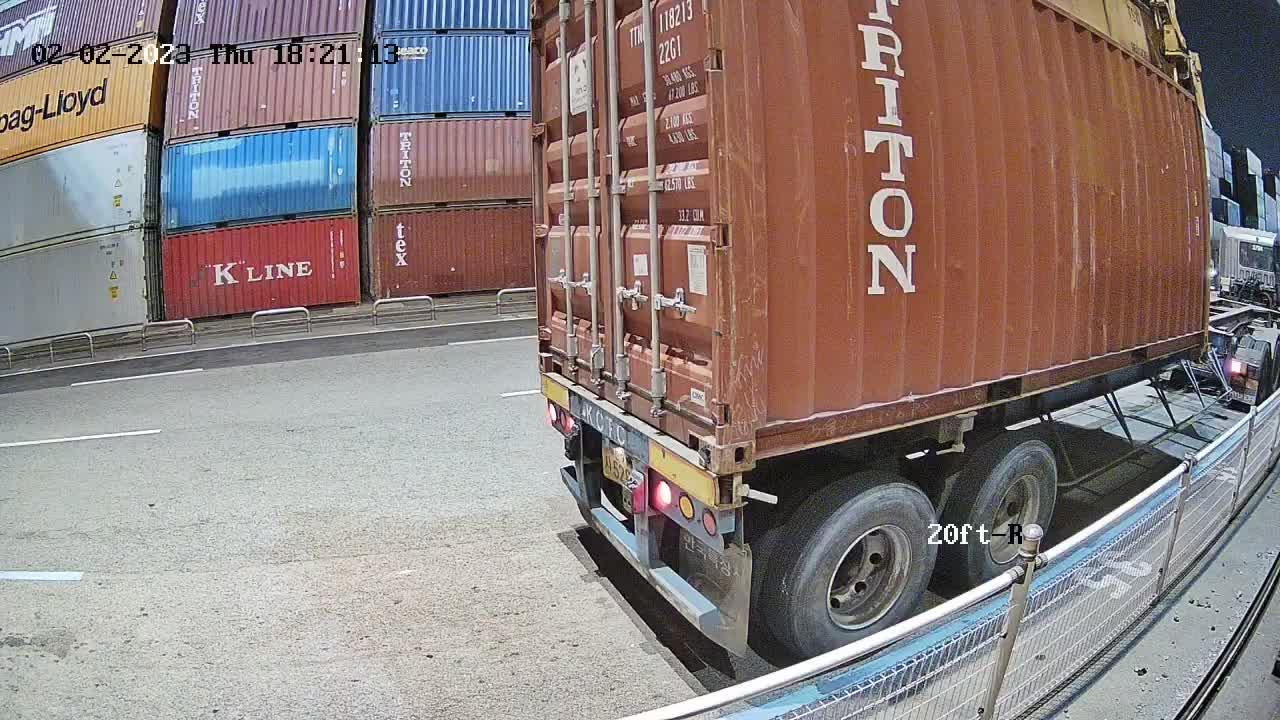Chassis: (539, 372, 744, 507)
Cone: (717, 473, 746, 509)
Hole_L: (718, 402, 788, 476), (537, 327, 576, 384)
Hole_R: (676, 394, 717, 475)
Tire: (791, 484, 939, 662), (968, 441, 1057, 597)
